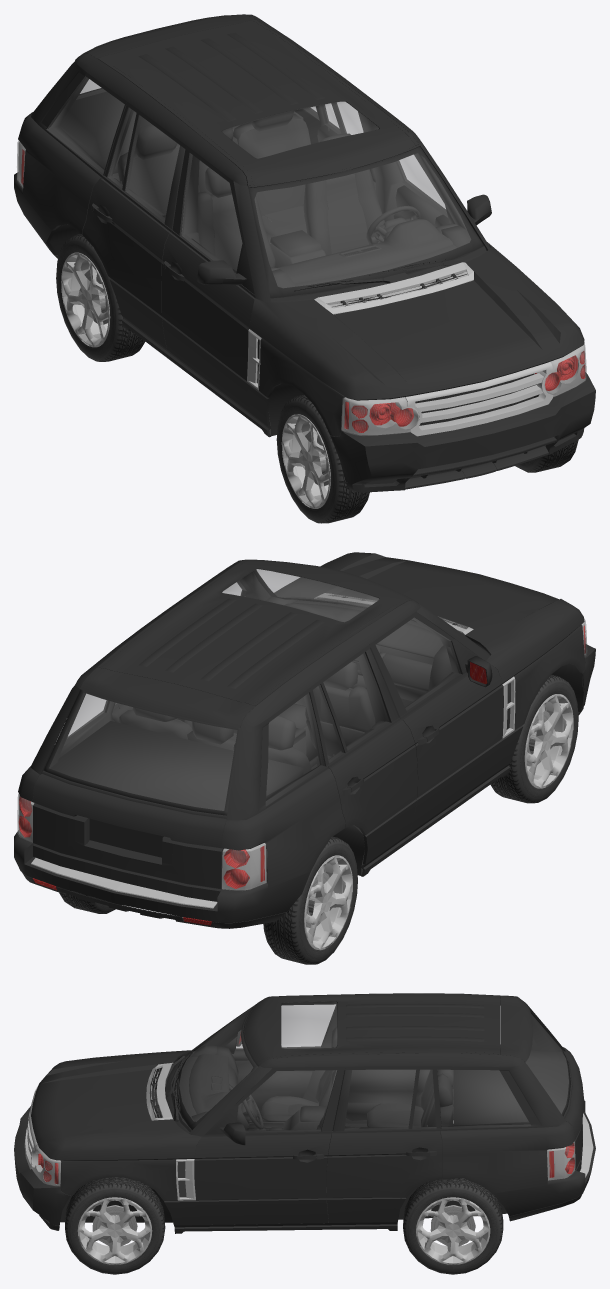
The model's file is qiche1.FBX.
3 views of the same model, one above another, from view 1: azimuth 30°, elevation 25°; view 2: azimuth 150°, elevation 25°; view 3: azimuth 270°, elevation 25° (orthographic). The views are drawn at different scales.
Parts seen in each view (by area): view 1: qiche1; view 2: qiche1; view 3: qiche1.
Boxes of the visible parts, bbox=[...] form: qiche1: bbox=[14, 14, 595, 523]; qiche1: bbox=[14, 552, 595, 964]; qiche1: bbox=[14, 993, 595, 1274].
Size of the model in its own units: 213 by 192 by 482.
6 materials, 5 textured.
